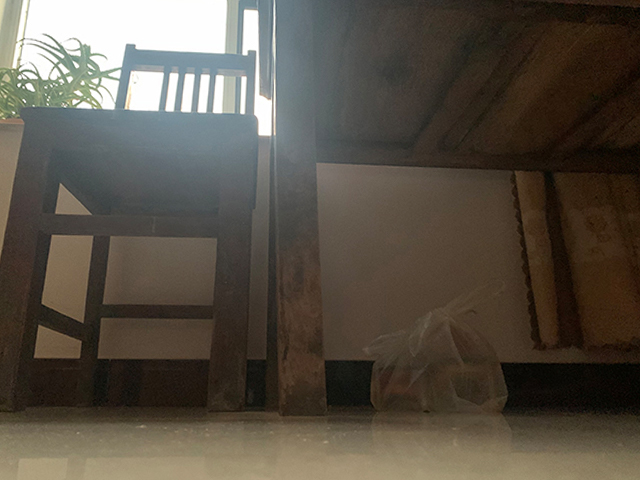stool: (1, 43, 259, 414)
table: (256, 1, 640, 415)
